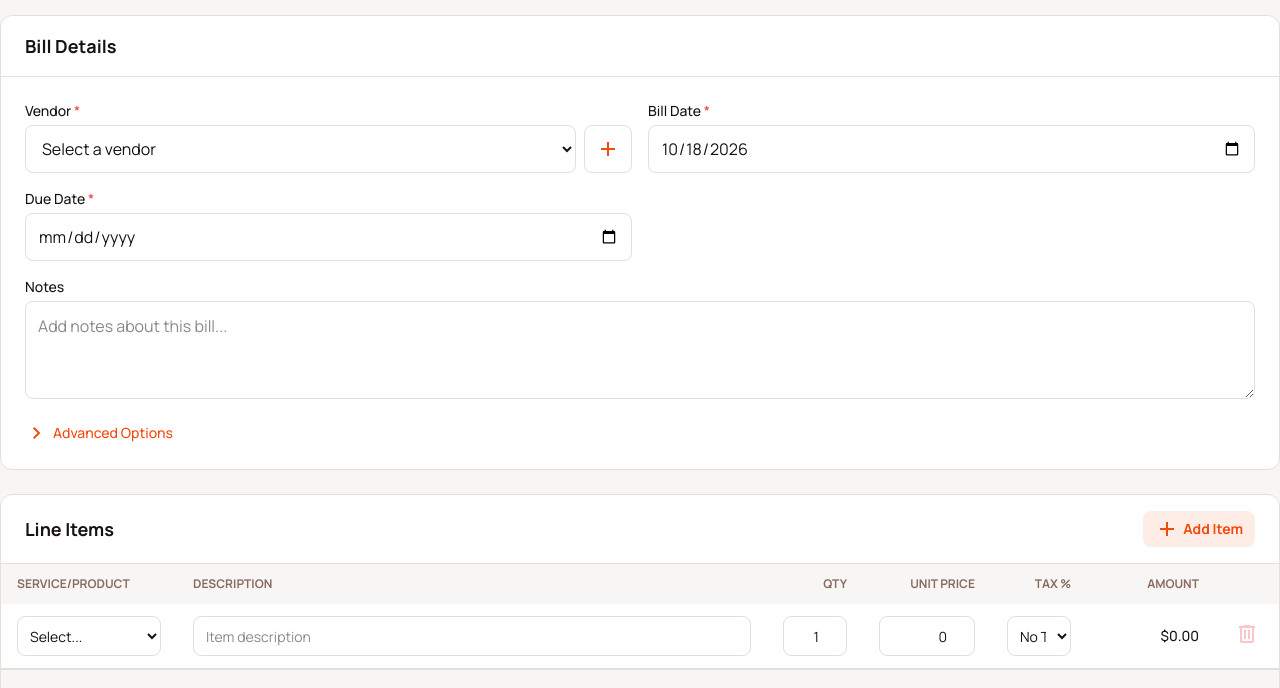
BillFormPage › line items › can add new line item
The width and height of the screenshot is (1280, 688).
Click the button with test id "bill-add-item-button" at (1199, 529), box [1143,511,1255,547]
(page scrolled)
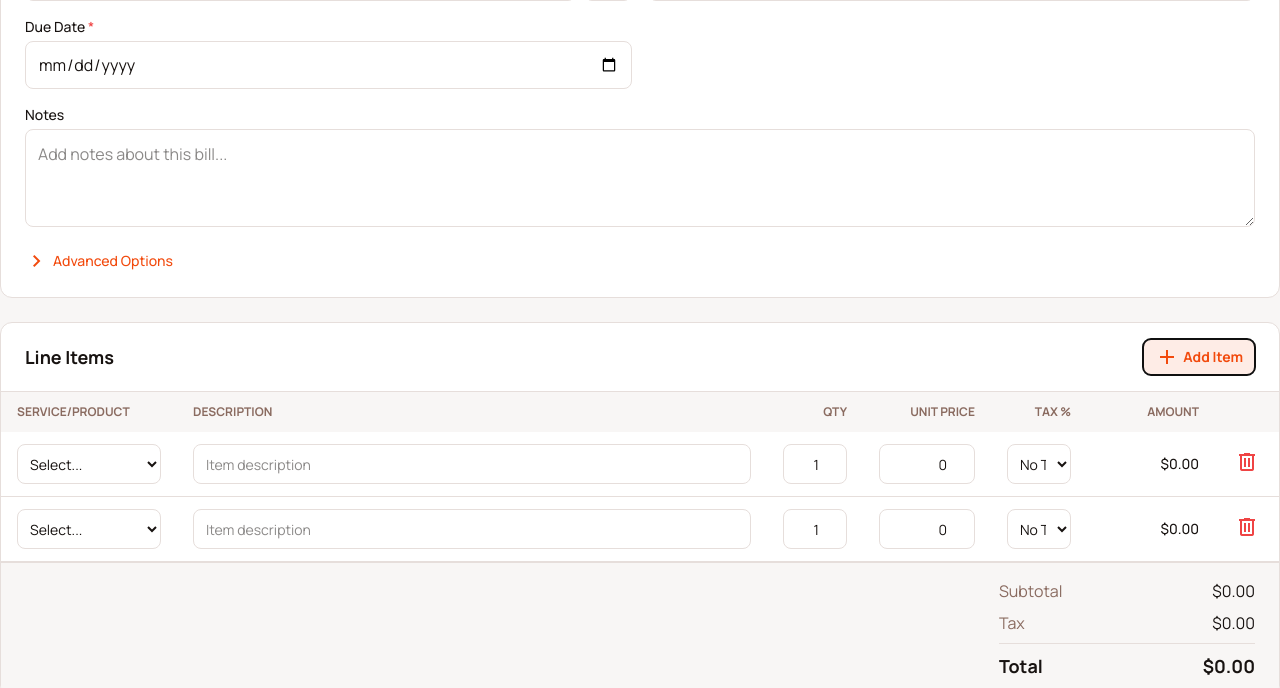
Check: the field with test id "bill-item-description-1" is shown, box [193,509,751,549]
